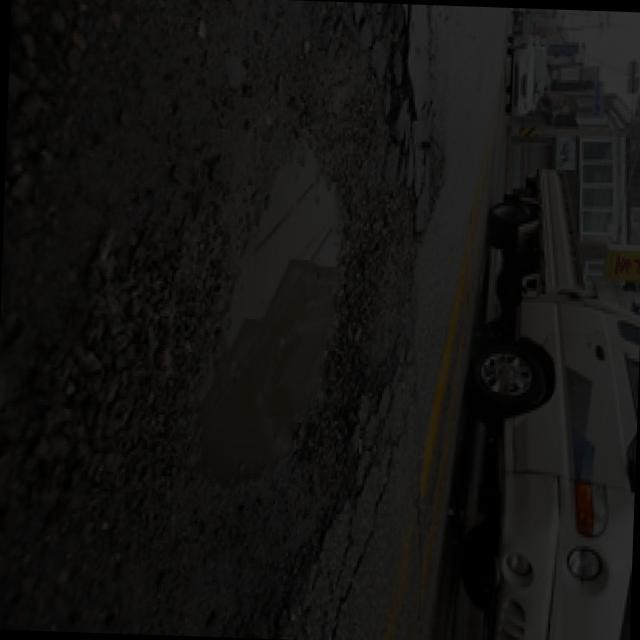pothole: (196, 112, 374, 531)
